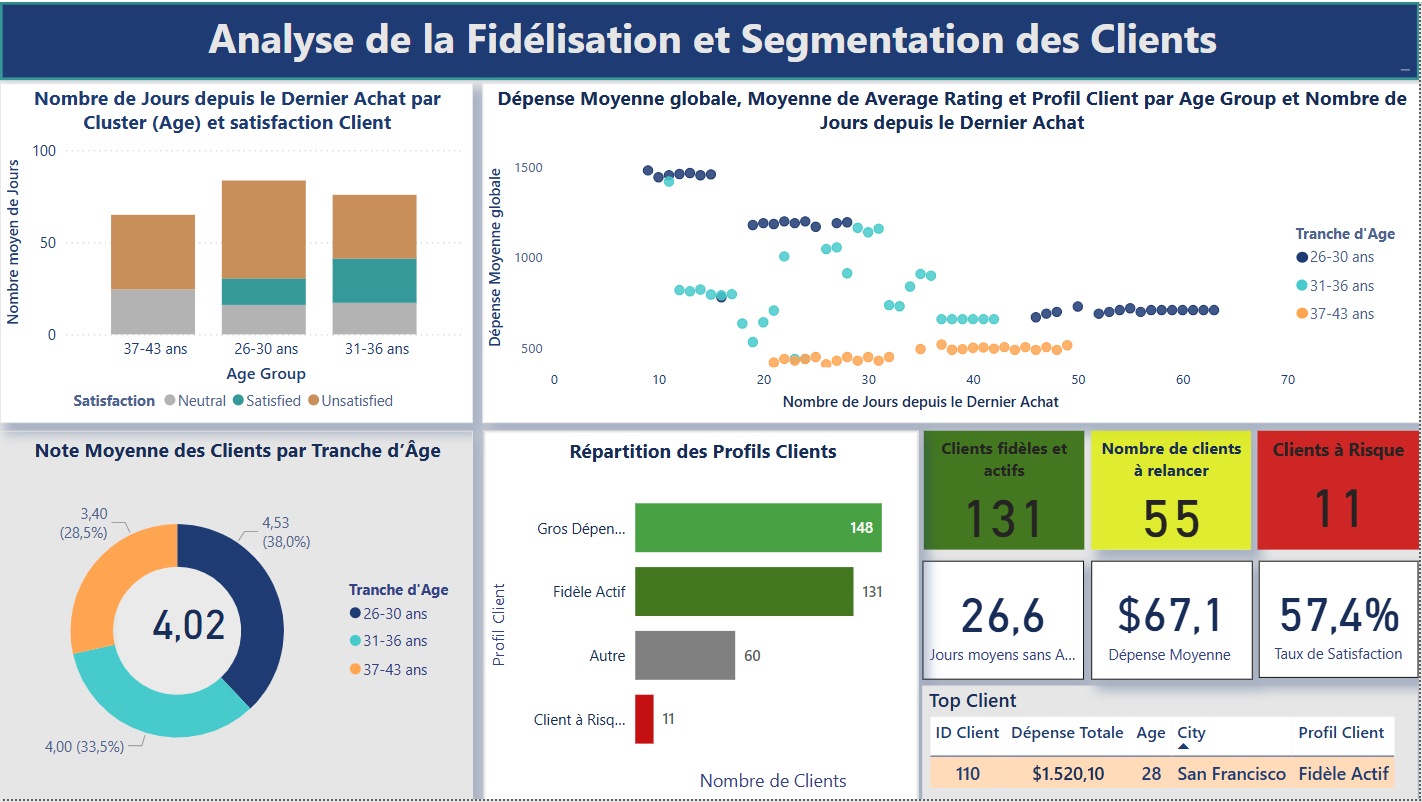

The page's visual inventory and layout, read from the dashboard file:
{"tool":"powerbi","page":{"name":"Segmentation et Fidélisation Client","canvas":[1280,720],"ordinal":4},"visuals":[{"type":"card","fields":{"Values":["e_commerce_Customer_Behavior.Average_Rating"]},"box":[105.7,493.9,129.4,129.4],"z":0},{"type":"textbox","title":"Analyse de la Fidélisation et Segmentation des Clients","box":[0,0,1280,70],"z":1000},{"type":"columnChart","title":"Nombre de Jours depuis le Dernier Achat par Cluster (Age) et satisfaction Client","fields":{"Category":["e_commerce_Customer_Behavior.Age Group"],"Y":["e_commerce_Customer_Behavior.Average_Days_Since_Last_Purchase"],"Series":["e_commerce_Customer_Behavior.Satisfaction Level"]},"box":[0,73.2,426.3,306.2],"z":2000},{"type":"scatterChart","fields":{"X":["e_commerce_Customer_Behavior.Days Since Last Purchase"],"Y":["e_commerce_Customer_Behavior.Dépense Moyenne globale"],"Series":["e_commerce_Customer_Behavior.Age Group"]},"box":[434.7,73.2,845.3,306.2],"z":3000},{"type":"donutChart","title":"Note Moyenne des Clients par Tranche d’Âge","fields":{"Y":["e_commerce_Customer_Behavior.Average_Rating"],"Category":["e_commerce_Customer_Behavior.Age Group"]},"box":[0,386.9,426.7,333.4],"z":4000},{"type":"card","title":"Nombre de clients à relancer","fields":{"Values":["e_commerce_Customer_Behavior.Clients_A_Relancer"]},"box":[984,386.9,144.3,107],"z":5000},{"type":"card","fields":{"Values":["e_commerce_Customer_Behavior.Average_Days_Since_Last_Purchase"]},"box":[831.8,503.8,145.4,107.1],"z":6000},{"type":"card","title":"Clients fidèles et actifs","fields":{"Values":["e_commerce_Customer_Behavior.Clients_Fideles"]},"box":[833.5,386.9,145,107],"z":7000},{"type":"barChart","title":"Répartition des Profils Clients","fields":{"Category":["e_commerce_Customer_Behavior.Customer_Profile_Advanced"],"Y":["CountNonNull(e_commerce_Customer_Behavior.Customer_Profile_Advanced)"]},"box":[436.6,386.9,391.8,333.4],"z":8000},{"type":"card","title":"Clients à Risque","fields":{"Values":["e_commerce_Customer_Behavior.Clients à Risque"]},"box":[1134.4,386.9,145.5,107],"z":9000},{"type":"tableEx","title":"Top Client","fields":{"Values":["e_commerce_Customer_Behavior.Customer ID","Avg(e_commerce_Customer_Behavior.Total Spend)","e_commerce_Customer_Behavior.Age","e_commerce_Customer_Behavior.City","e_commerce_Customer_Behavior.Customer_Profile_Advanced"]},"box":[832.2,616.7,446.6,103.2],"z":10000},{"type":"card","fields":{"Values":["e_commerce_Customer_Behavior.AverageSpend"]},"box":[984,503.8,145.4,107.1],"z":11000},{"type":"card","fields":{"Values":["e_commerce_Customer_Behavior.Taux de Satisfaction Note"]},"box":[1135,503.8,144.3,105.9],"z":12000}]}

Visuals, with their boxes in screenshot pixels (x1, y1, x2, y2), scaled from the page's 1280x720 canvas onto the 1422x802 screenshot:
card - e_commerce_Customer_Behavior.Average_Rating: box=[117, 550, 261, 694]
"Analyse de la Fidélisation et Segmentation des Clients" textbox: box=[0, 0, 1421, 78]
"Nombre de Jours depuis le Dernier Achat par Cluster (Age) et satisfaction Client" columnChart: box=[0, 82, 474, 423]
scatterChart - e_commerce_Customer_Behavior.Days Since Last Purchase x e_commerce_Customer_Behavior.Dépense Moyenne globale: box=[483, 82, 1421, 423]
"Note Moyenne des Clients par Tranche d’Âge" donutChart: box=[0, 431, 474, 801]
"Nombre de clients à relancer" card: box=[1093, 431, 1253, 550]
card - e_commerce_Customer_Behavior.Average_Days_Since_Last_Purchase: box=[924, 561, 1086, 680]
"Clients fidèles et actifs" card: box=[926, 431, 1087, 550]
"Répartition des Profils Clients" barChart: box=[485, 431, 920, 801]
"Clients à Risque" card: box=[1260, 431, 1421, 550]
"Top Client" tableEx: box=[925, 687, 1421, 801]
card - e_commerce_Customer_Behavior.AverageSpend: box=[1093, 561, 1255, 680]
card - e_commerce_Customer_Behavior.Taux de Satisfaction Note: box=[1261, 561, 1421, 679]
